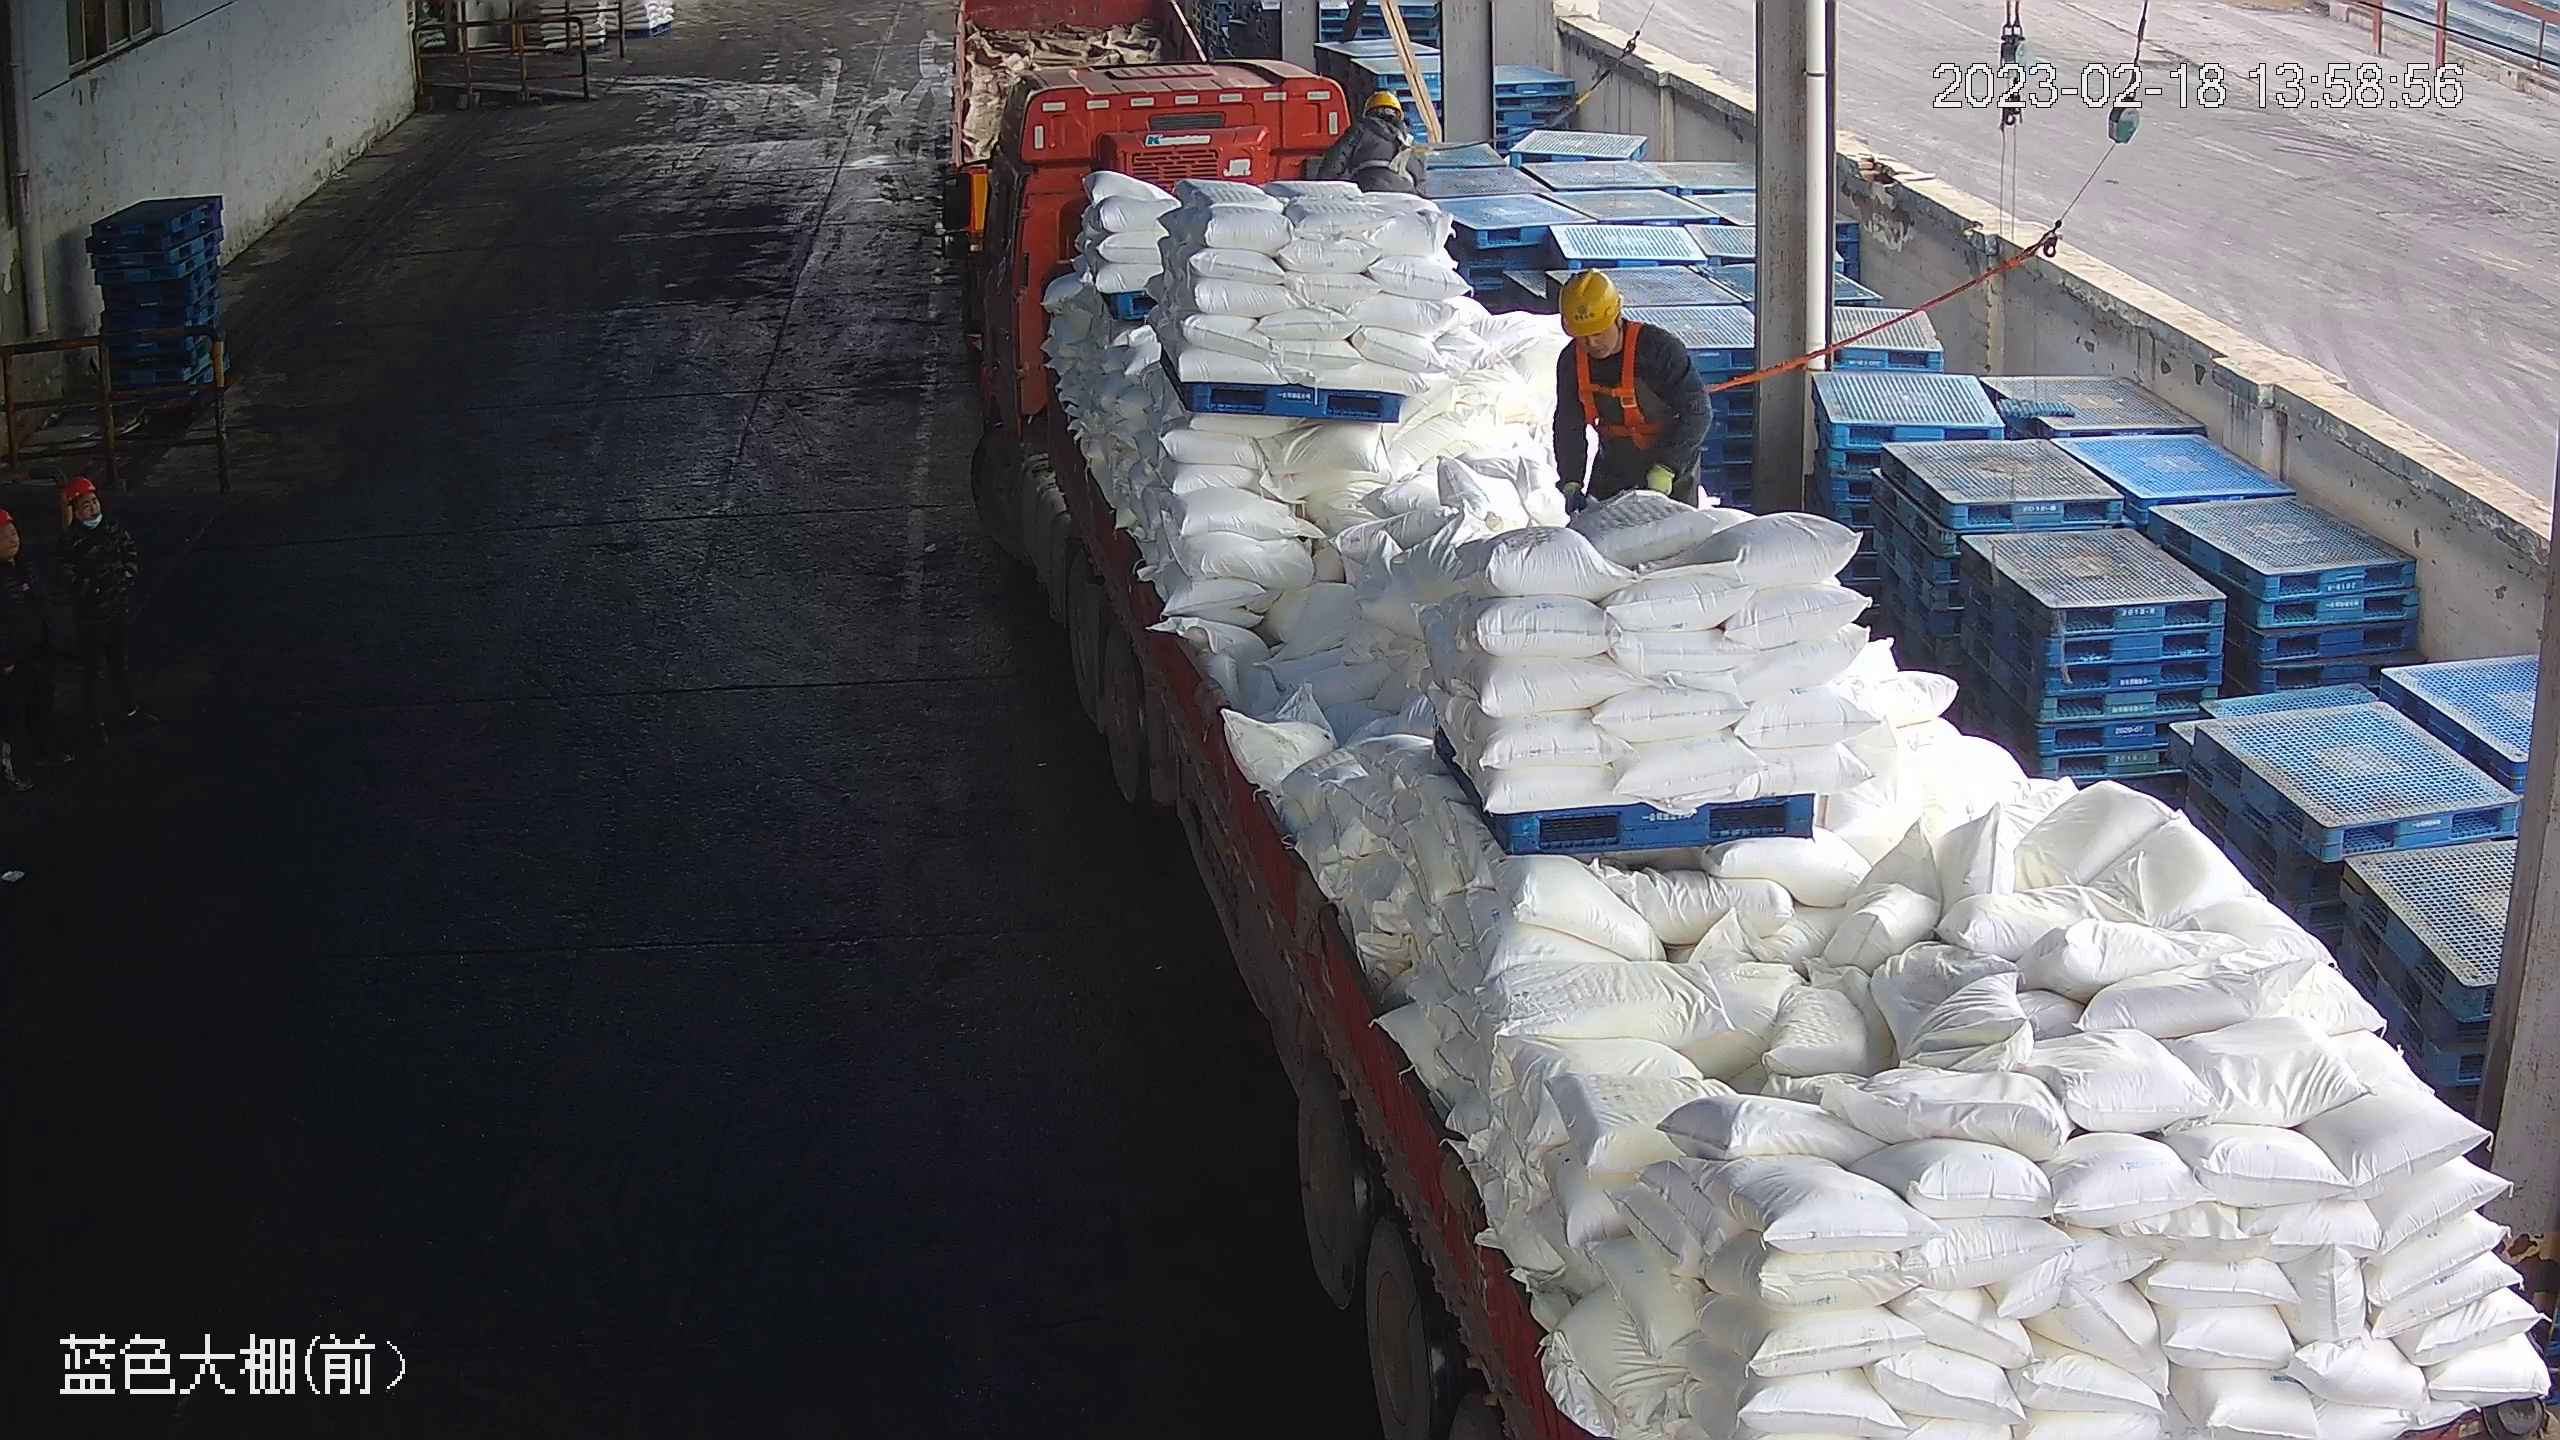belt: (1573, 324, 1672, 451), (1359, 118, 1411, 176)
head: (1550, 266, 1689, 384), (51, 473, 129, 579), (1342, 87, 1413, 150)
helmet: (1557, 266, 1622, 336), (61, 475, 94, 502), (1367, 88, 1402, 113)
people: (1547, 265, 1713, 512), (53, 473, 147, 762), (1, 509, 47, 792)
truck: (935, 54, 2556, 1440)
